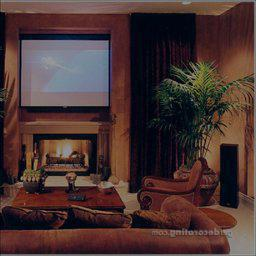Matera: (162, 67, 237, 179)
